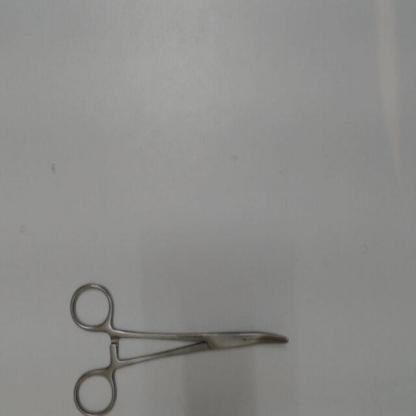Crile Artery Forceps: (63, 267, 298, 415)
